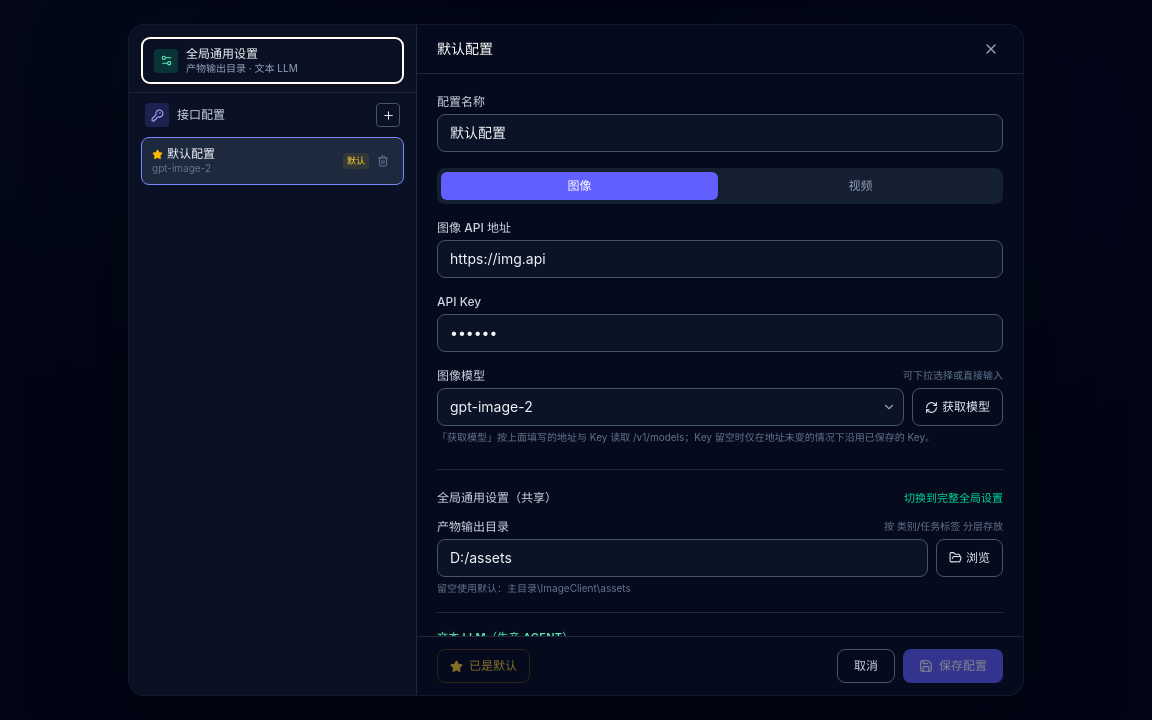
Test: SettingsPage › switches between global settings view and profile edit view
Expected: the field showing "默认配置" is shown, 437,114 -> 1003,152
Note: Switch to global settings
Click the text "全局通用设置". click: [222, 54]
box: 186,46 -> 258,61
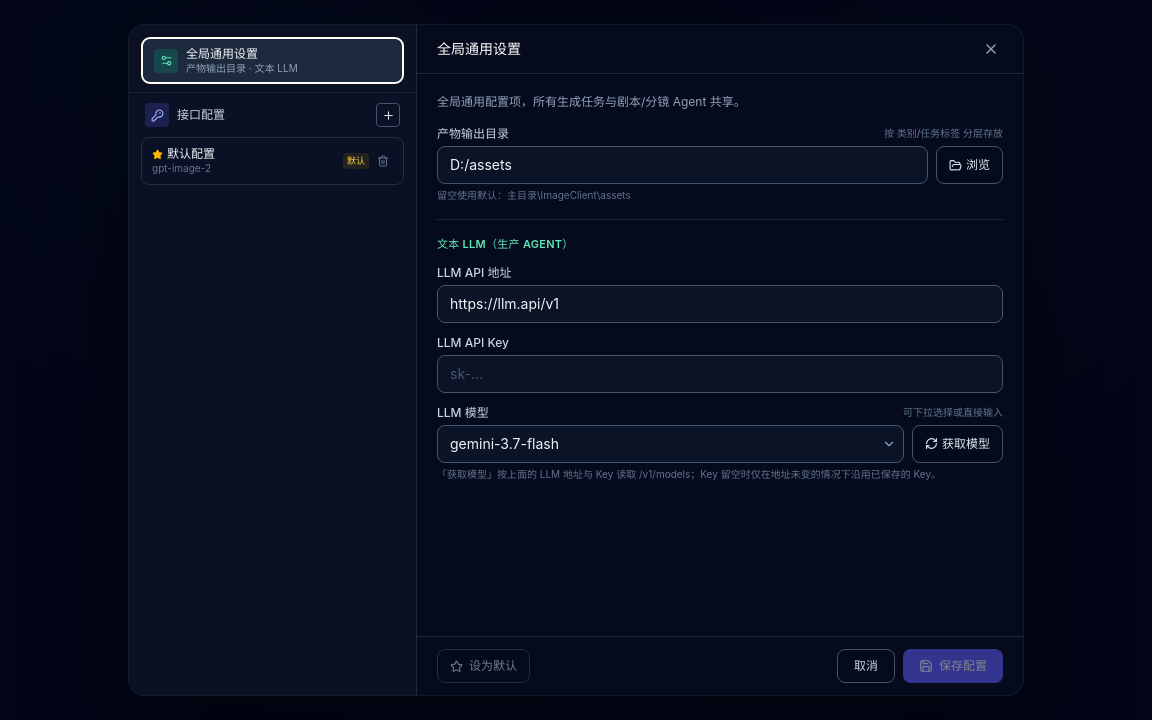
Expected: the text "全局通用配置项，所有生成任务与剧本/分镜 Agent 共享。" is shown, 437,94 -> 746,109
Note: Switch back to profile
Click the text "默认配置". click: [191, 154]
box: 167,146 -> 215,162
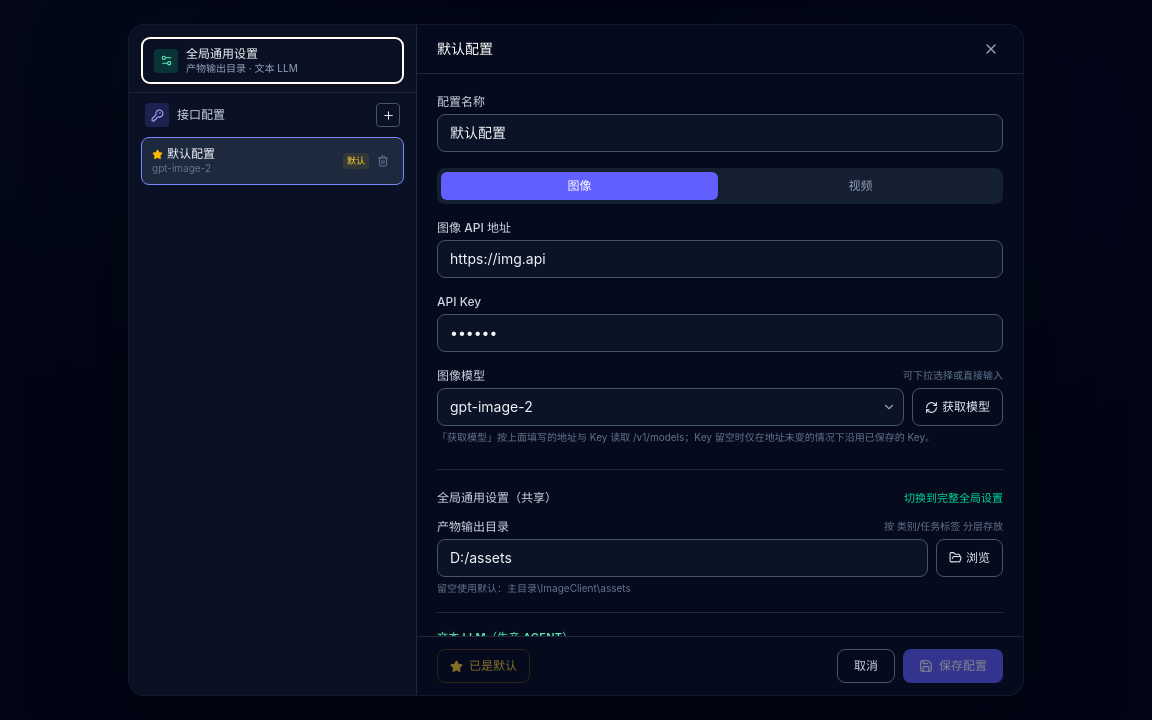
Expected: the field showing "默认配置" is shown, 437,114 -> 1003,152
